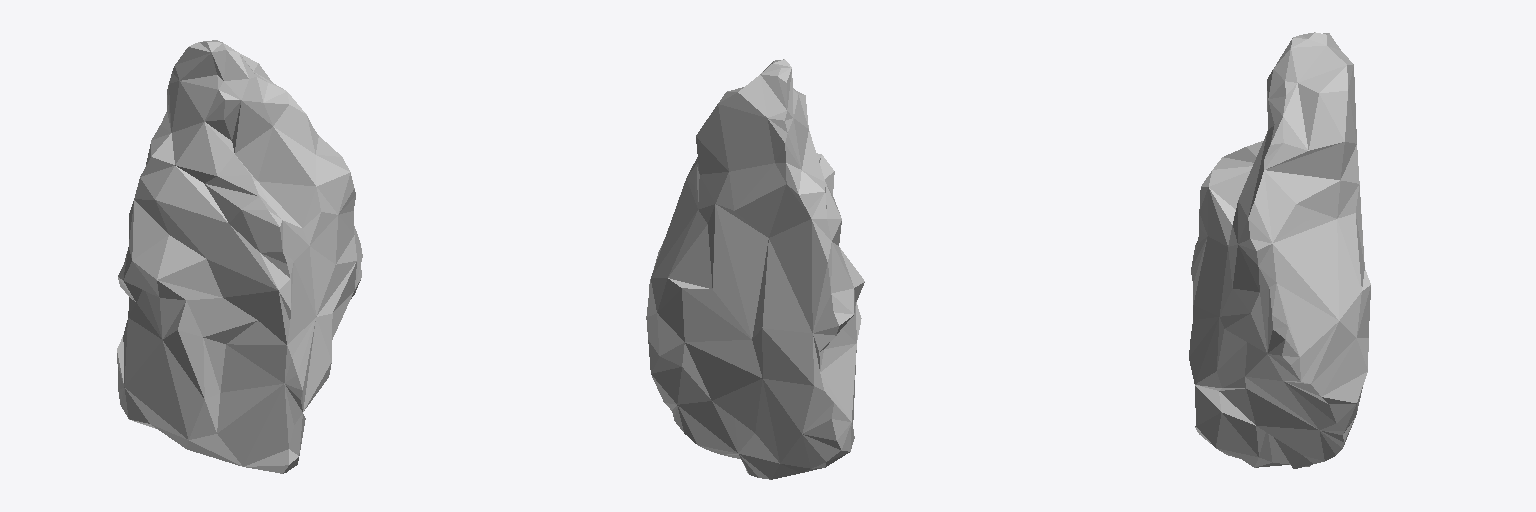
File: Stone_3.obj
3 views of the same model, side by side, from view 1: azimuth 30°, elevation 25°; view 2: azimuth 150°, elevation 25°; view 3: azimuth 270°, elevation 25° (orthographic).
Visible parts, largest first — view 1: Stone_3; view 2: Stone_3; view 3: Stone_3.
Part boxes in pixels (bbox=[...]): Stone_3: bbox=[117, 40, 362, 473]; Stone_3: bbox=[646, 59, 864, 479]; Stone_3: bbox=[1189, 32, 1370, 468].
Bounding box in the file's own units: 7.64 × 13.89 × 5.51.